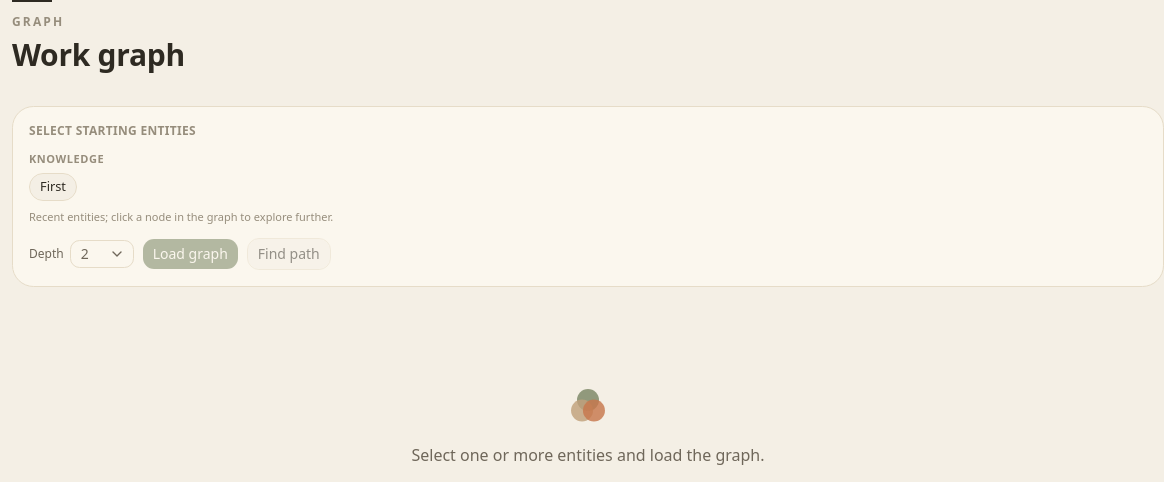
Test: Graph › clears a prior op error when the graph is cleared
Click the button "First".
click(53, 187)  # box [29,173,77,201]
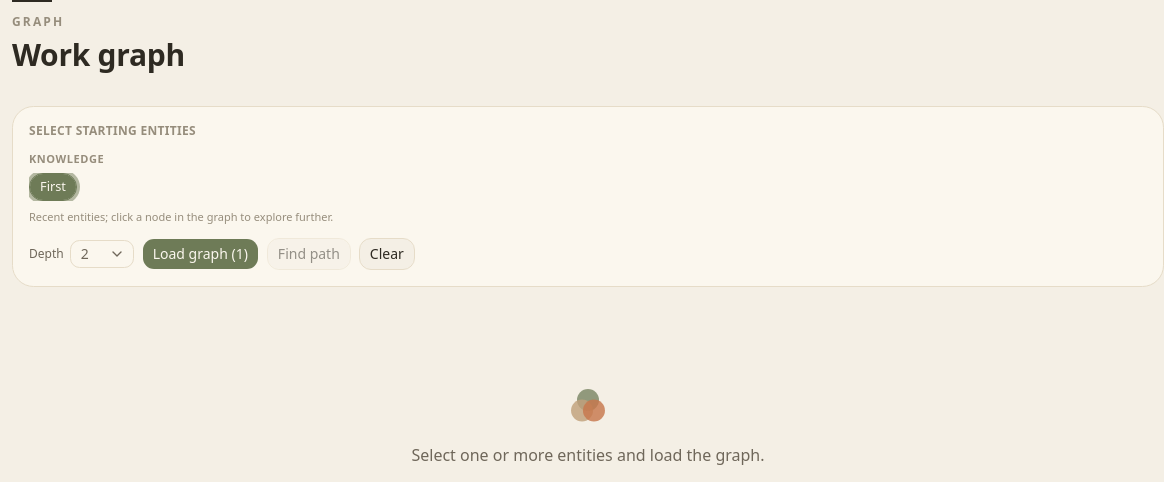
Click the button "Load graph (1)".
click(200, 254)  # box [142,238,259,270]
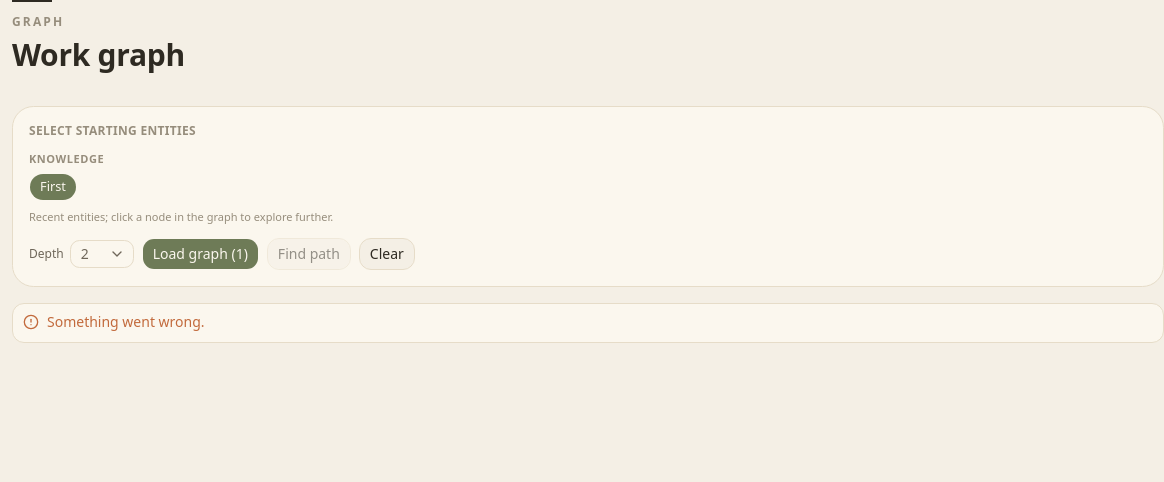
Now the text "Something went wrong." is shown, box [47,312,205,330]
Now the text "Select one or more entities" is gone
Click the button "Clear".
click(387, 254)  # box [359,238,415,270]
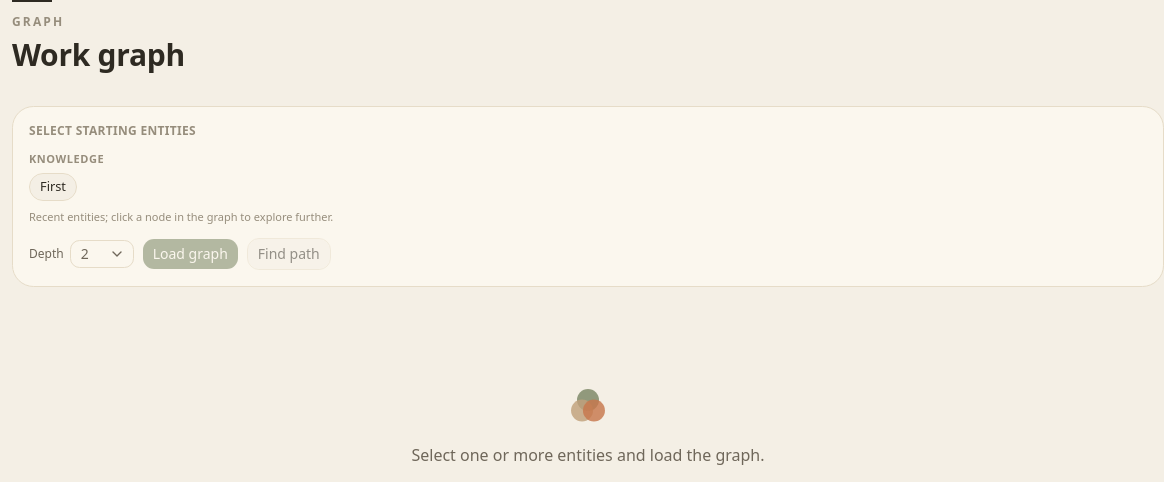
Now the text "Something went wrong" is gone
